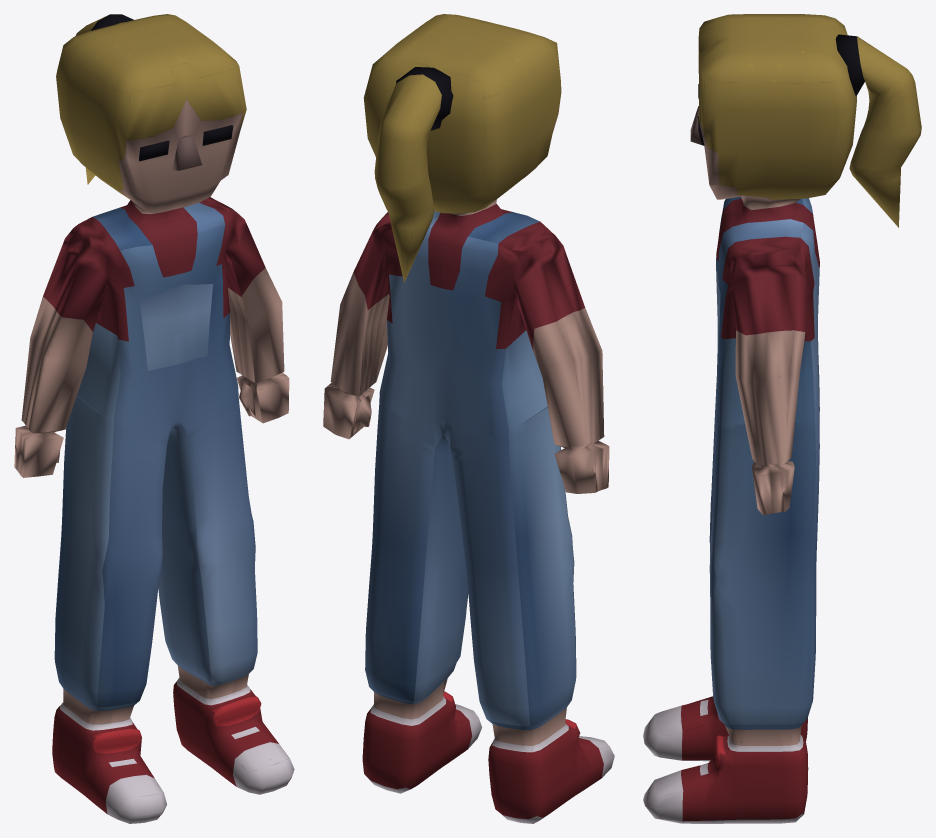
The model's file is Exploradora.fbx.
The picture shows the model from 3 angles, left to right: view 1: azimuth 30°, elevation 25°; view 2: azimuth 150°, elevation 25°; view 3: azimuth 270°, elevation 25°; orthographic projection. The views are drawn at different scales.
Visible parts, largest first — view 1: Exploradora.003; view 2: Exploradora.003; view 3: Exploradora.003.
Boxes of the visible parts, x1=… form: Exploradora.003: x1=14, y1=14, x2=294, y2=823; Exploradora.003: x1=323, y1=14, x2=614, y2=823; Exploradora.003: x1=643, y1=14, x2=921, y2=823.
Size of the model in its own units: 143 by 375 by 126.
Materials: 2 (2 with a texture image).
